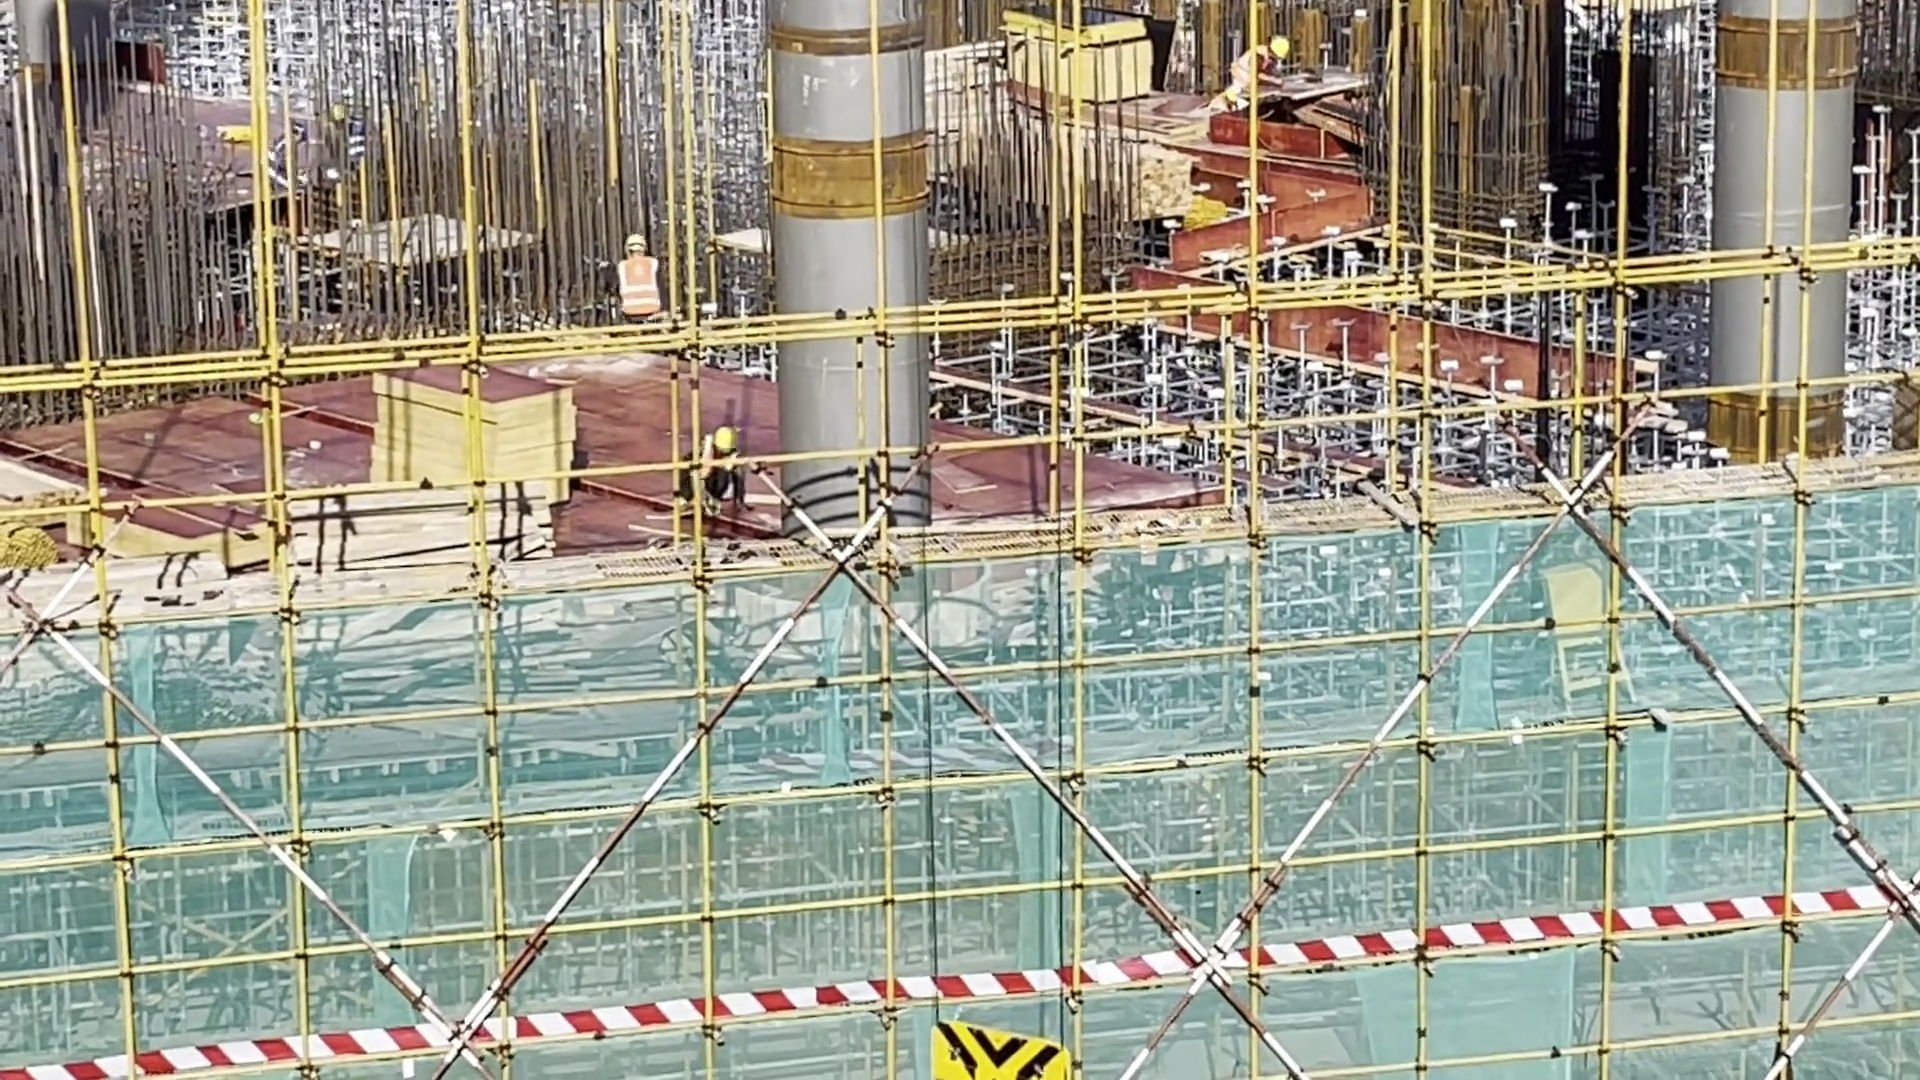helmet: (710, 423, 738, 454), (1268, 34, 1293, 59), (627, 231, 648, 249)
person: (612, 231, 667, 323), (701, 427, 750, 515), (1228, 30, 1290, 97)
vest: (619, 257, 657, 310), (1231, 49, 1270, 93)
